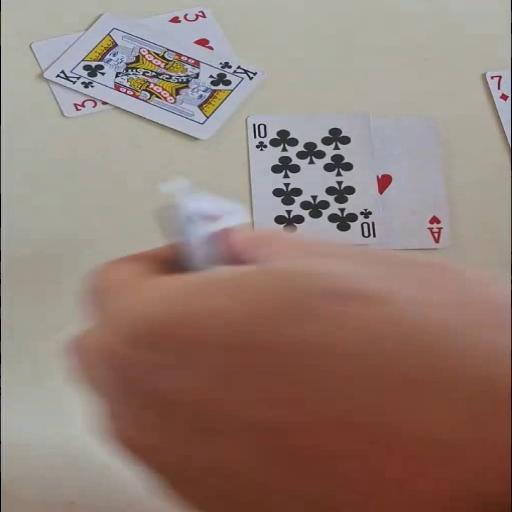10: (358, 206, 377, 239), (250, 120, 269, 152)
3: (165, 7, 208, 24), (69, 97, 102, 112)
7: (488, 72, 510, 102)
A: (424, 213, 444, 244)
K: (51, 66, 97, 90), (214, 58, 259, 82)
